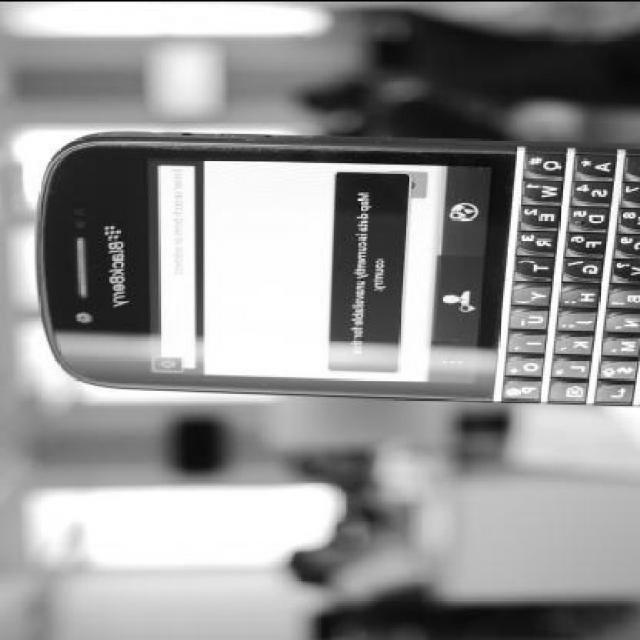fake: (26, 122, 640, 407)
